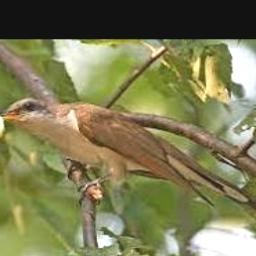Cuckoo: (0, 98, 256, 237)
